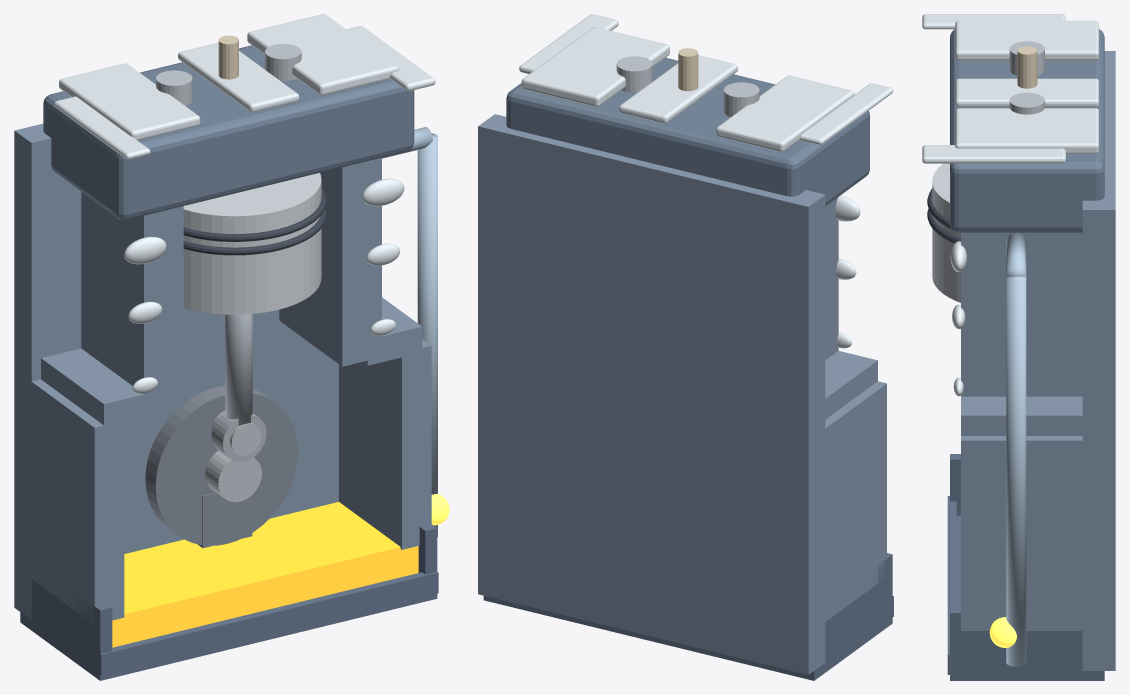
Rendered from motor_corte.glb.
3 views of the same model, side by side, from view 1: azimuth 30°, elevation 25°; view 2: azimuth 150°, elevation 25°; view 3: azimuth 270°, elevation 25° (orthographic). The views are drawn at different scales.
Parts seen in each view (by area): view 1: Cube, Cube.007, Cube.011, escarcha, Cube.002, ciguenal, piston, Cube.001, Cube.005, Cube.004, Cube.012, Cube.003 (+9 smaller); view 2: Cube, escarcha, Cube.007, Cube.002, Cube.009, Cube.008, Cube.003, Cube.001, Cylinder.002, Cylinder.001, Cylinder; view 3: Cube.005, escarcha, Cube, Cube.004, Cube.007, Cylinder.003, Cube.010, Cube.006, piston, Cube.008, Cube.012, Cylinder.004 (+5 smaller).
Boxes of the visible parts, x1,y1,x2,y2 form: Cube: [14, 123, 338, 619]; Cube.007: [43, 45, 414, 219]; Cube.011: [112, 502, 418, 647]; escarcha: [54, 14, 435, 393]; Cube.002: [31, 379, 124, 623]; ciguenal: [145, 385, 298, 548]; piston: [183, 173, 326, 314]; Cube.001: [81, 192, 183, 414]; Cube.005: [339, 339, 431, 549]; Cube.004: [279, 157, 381, 366]; Cube.012: [97, 572, 438, 675]; Cube.003: [41, 348, 158, 429]; Cube: [478, 114, 825, 674]; escarcha: [519, 14, 893, 348]; Cube.007: [506, 57, 869, 205]; Cube.002: [825, 381, 886, 621]; Cube.009: [825, 553, 892, 660]; Cube.008: [483, 596, 892, 680]; Cube.003: [825, 350, 877, 419]; Cube.001: [825, 197, 838, 359]; Cylinder.002: [616, 56, 652, 92]; Cylinder.001: [723, 82, 759, 116]; Cylinder: [678, 48, 698, 91]; Cube.005: [961, 436, 1092, 630]; escarcha: [922, 14, 1098, 396]; Cube: [1082, 51, 1115, 670]; Cube.004: [961, 232, 1082, 396]; Cube.007: [950, 29, 1104, 232]; Cylinder.003: [1006, 276, 1026, 666]; Cube.010: [950, 607, 1082, 668]; Cube.006: [961, 396, 1082, 435]; piston: [927, 163, 960, 302]; Cube.008: [950, 515, 1104, 680]; Cube.012: [947, 496, 956, 674]; Cylinder.004: [1006, 232, 1026, 276].
Size of the model in its own units: 3.79 by 5.5 by 1.75.
